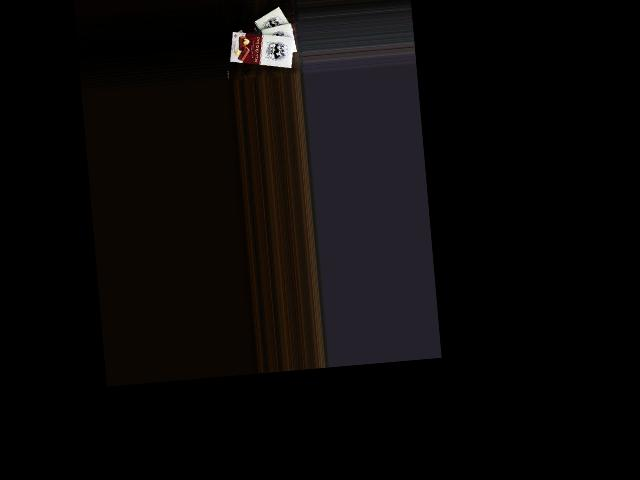chocolate: (226, 4, 296, 52)
